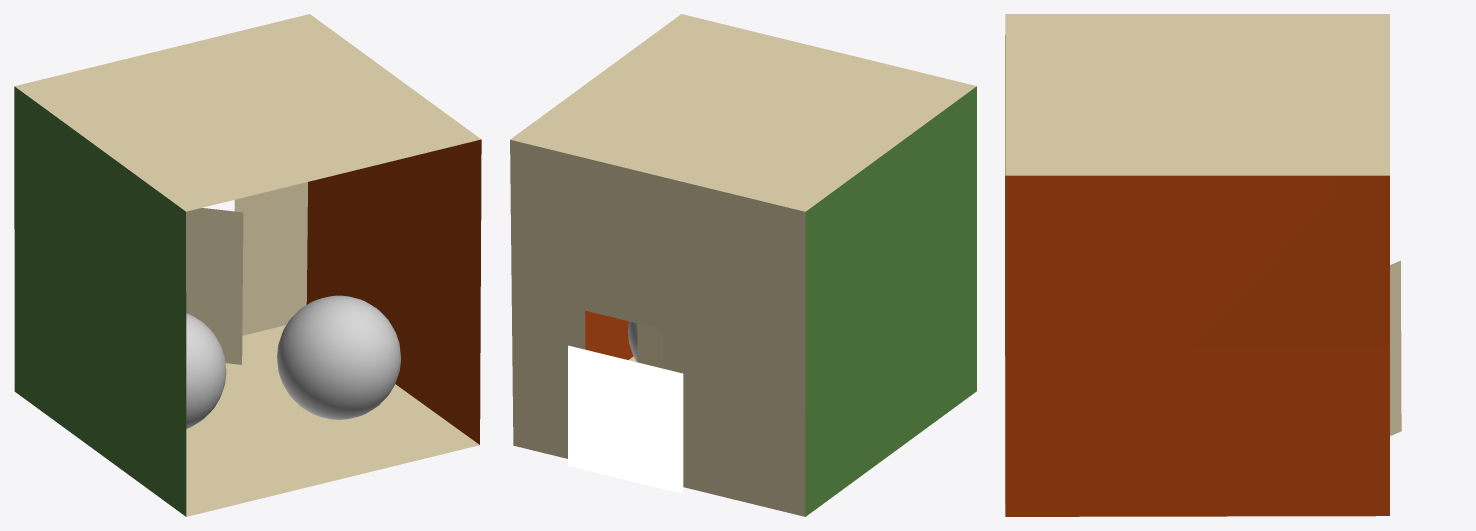
Rendered from cornellbox_spheres_indirect.glb.
The picture shows the model from 3 angles, left to right: view 1: azimuth 30°, elevation 25°; view 2: azimuth 150°, elevation 25°; view 3: azimuth 270°, elevation 25°; orthographic projection. The views are drawn at different scales.
Visible parts, largest first — view 1: CornellBox_Empty, Sphere_R, CornellBox_Empty.001, Sphere_L; view 2: CornellBox_Empty, Plane, CornellBox_Empty.001; view 3: CornellBox_Empty, CornellBox_Empty.001.
Part boxes in pixels (left/top/right/bottom): CornellBox_Empty: left=14, top=14, right=481, bottom=516; Sphere_R: left=277, top=295, right=400, bottom=419; CornellBox_Empty.001: left=186, top=208, right=243, bottom=364; Sphere_L: left=186, top=313, right=226, bottom=428; CornellBox_Empty: left=510, top=14, right=976, bottom=516; Plane: left=568, top=345, right=683, bottom=493; CornellBox_Empty.001: left=637, top=323, right=662, bottom=368; CornellBox_Empty: left=1005, top=14, right=1389, bottom=516; CornellBox_Empty.001: left=1390, top=260, right=1401, bottom=435.
Bounding box in the file's own units: 0.7808 × 0.7709 × 0.932.
